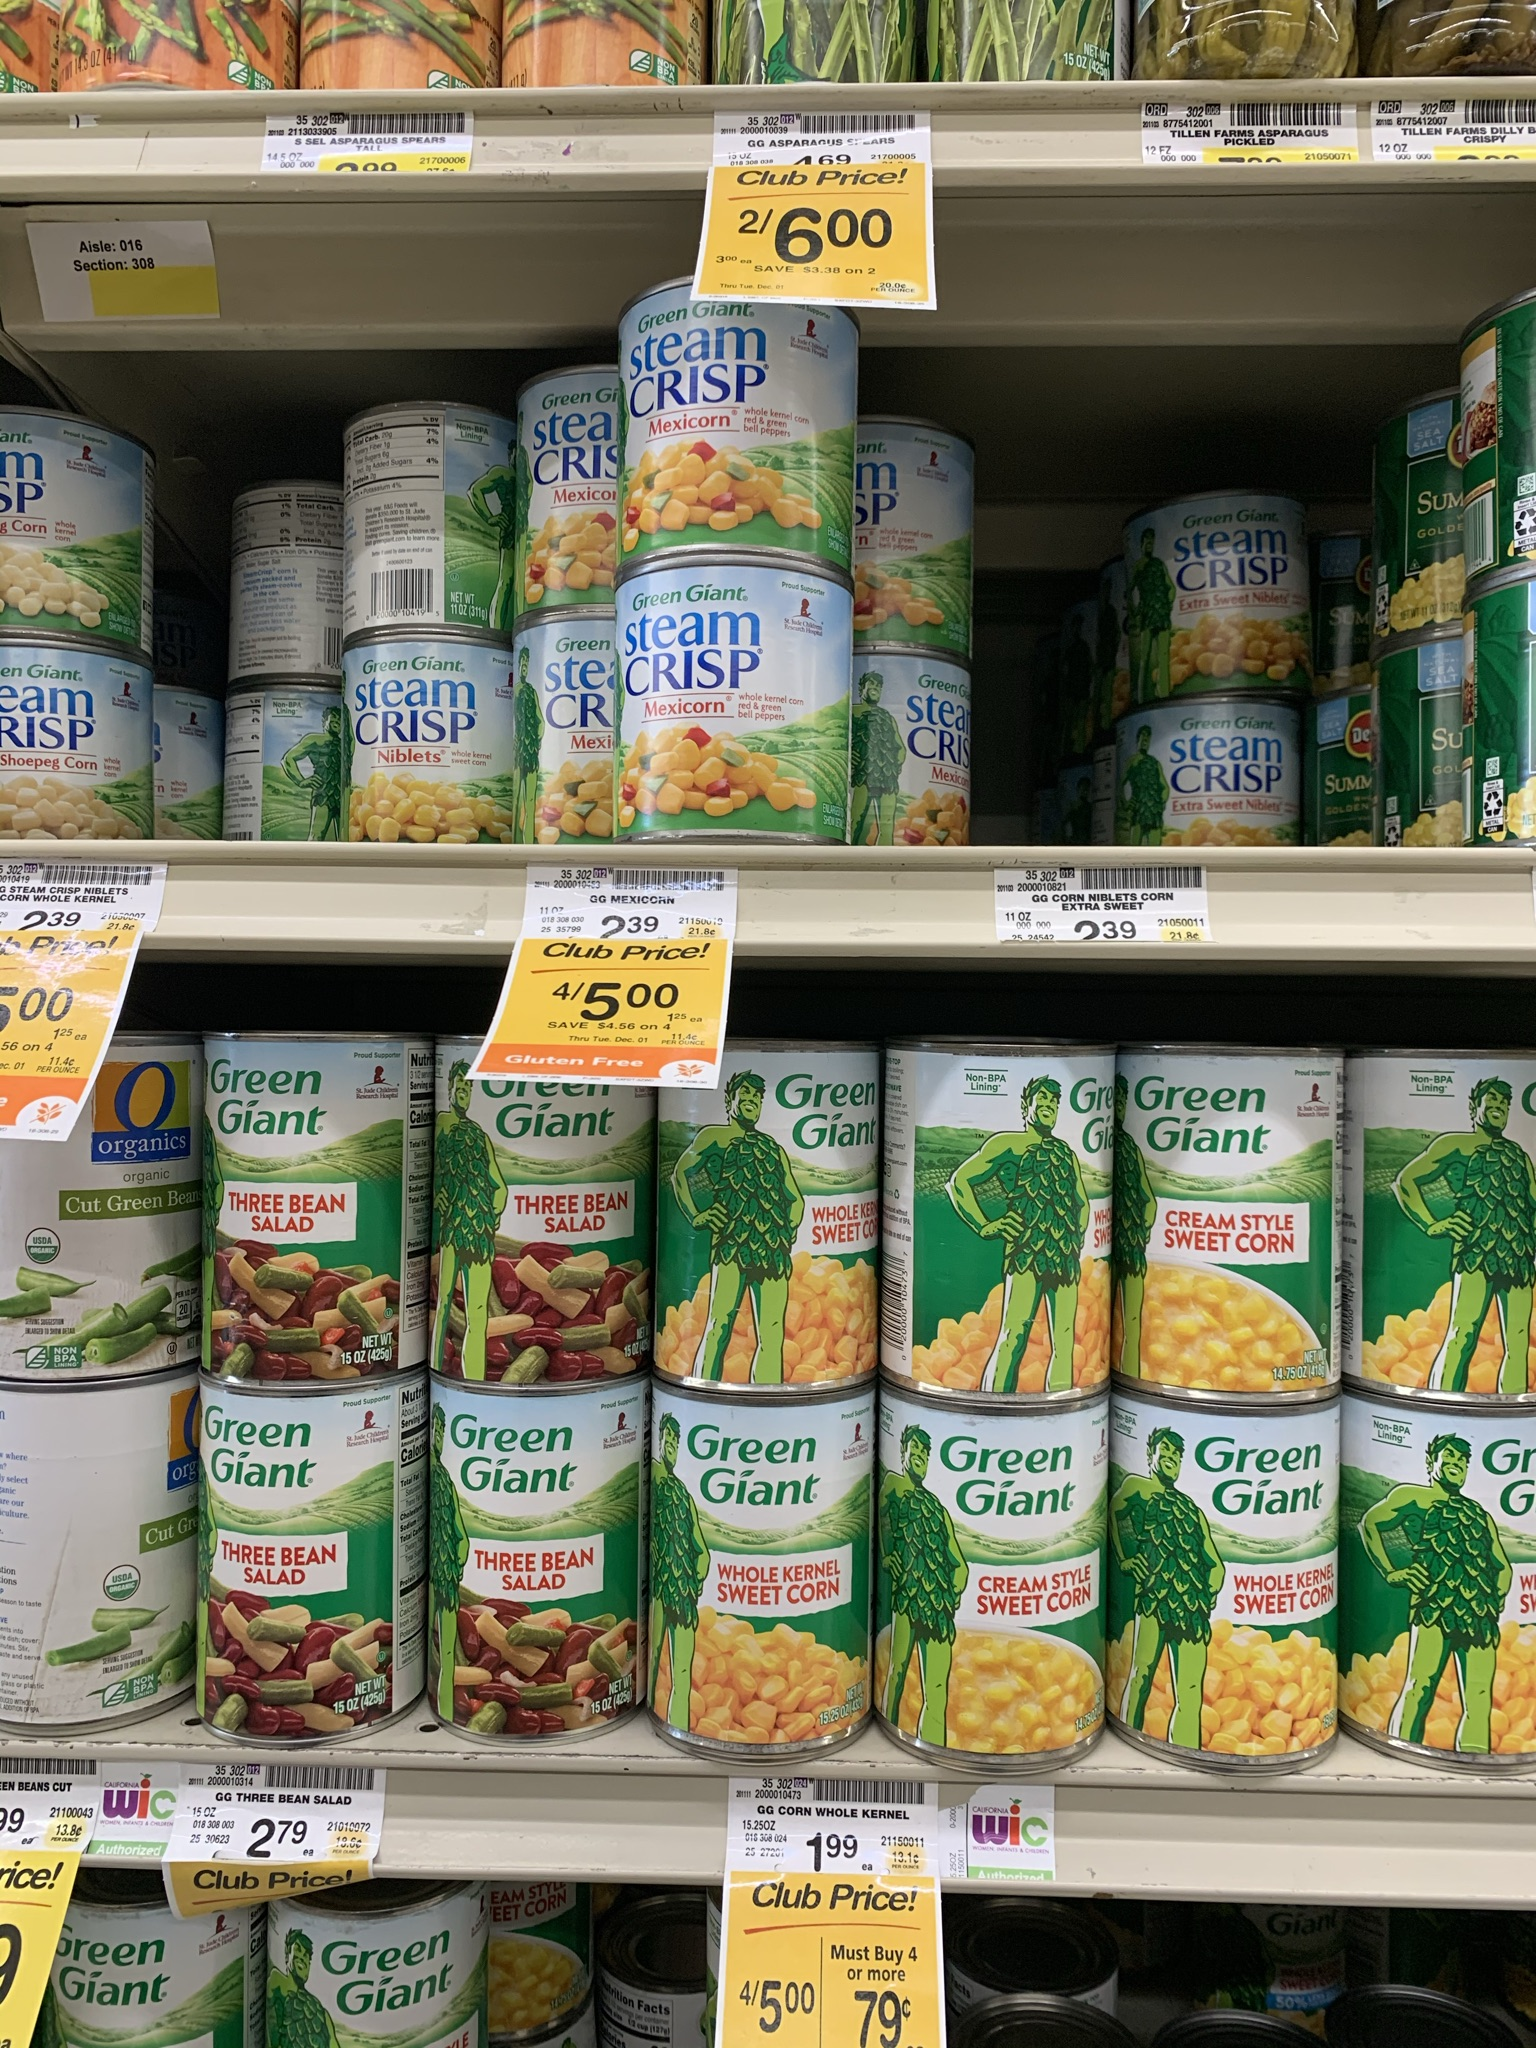can: (874, 1401, 1105, 1775), (1112, 1401, 1342, 1775), (202, 1024, 428, 1395), (1120, 1040, 1352, 1400), (649, 1393, 874, 1763), (194, 1392, 423, 1750), (887, 1047, 1113, 1405), (657, 1040, 878, 1393), (428, 1395, 645, 1746), (434, 1034, 649, 1387), (1342, 1395, 1536, 1772), (611, 558, 852, 842), (623, 279, 860, 563), (1359, 1043, 1536, 1401)
